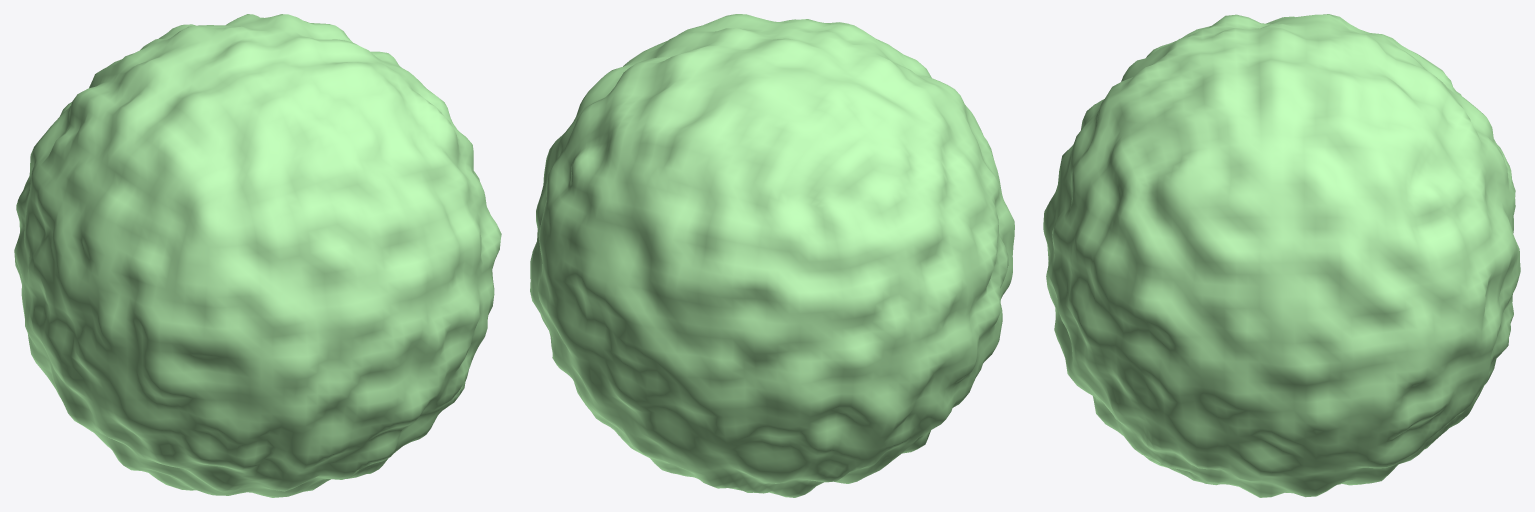
File: cell.fbx
3 renders of one model, left to right at view 1: azimuth 30°, elevation 25°; view 2: azimuth 150°, elevation 25°; view 3: azimuth 270°, elevation 25°, orthographic.
Parts seen in each view (by area): view 1: membrane; view 2: membrane; view 3: membrane.
Part boxes in pixels (box(x1,y1,x2,y2)): membrane: box(14, 14, 501, 497); membrane: box(530, 14, 1014, 497); membrane: box(1043, 14, 1520, 497).
Size of the model in its own units: 240 by 241 by 242.
